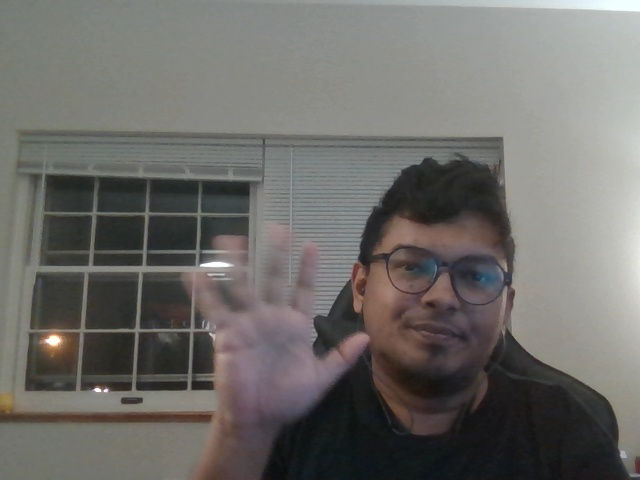hello: (170, 207, 377, 432)
